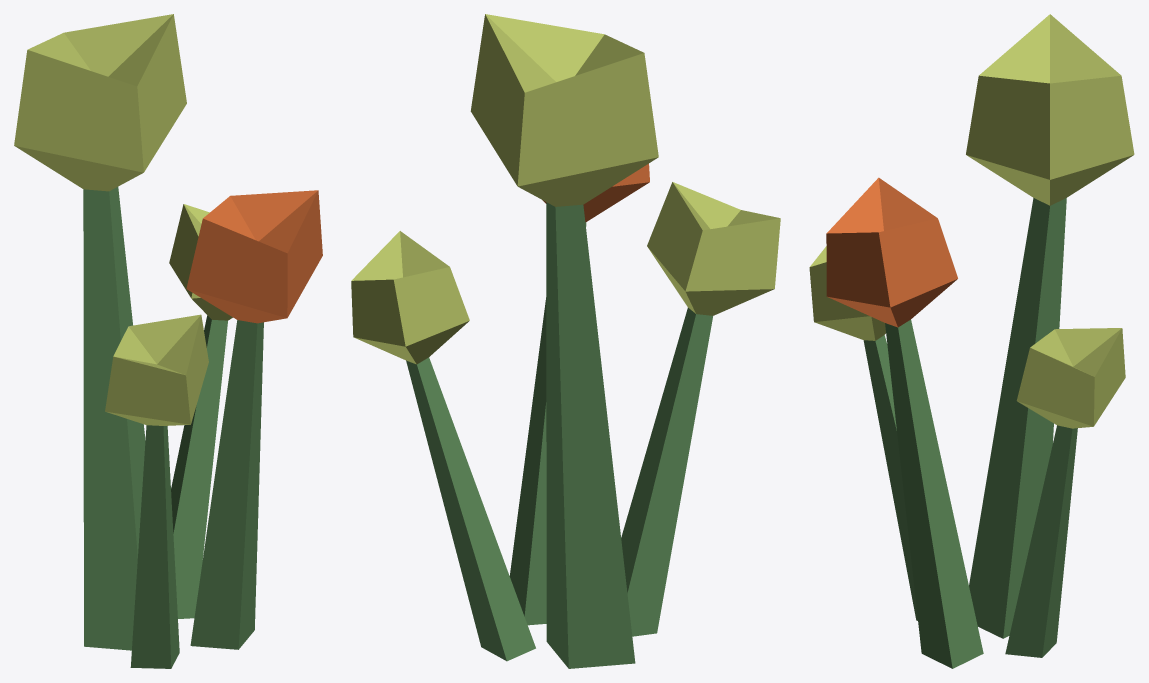
The model's file is flower3.fbx.
3 renders of one model, left to right at view 1: azimuth 30°, elevation 25°; view 2: azimuth 150°, elevation 25°; view 3: azimuth 270°, elevation 25°, orthographic. The views are drawn at different scales.
Parts seen in each view (by area): view 1: flower3; view 2: flower3; view 3: flower3.
Part boxes in pixels (x1,y1,x2,y2): flower3: [14, 14, 322, 668]; flower3: [351, 14, 780, 668]; flower3: [809, 14, 1134, 668].
Bounding box in the file's own units: 10.22 × 21.41 × 11.05.
